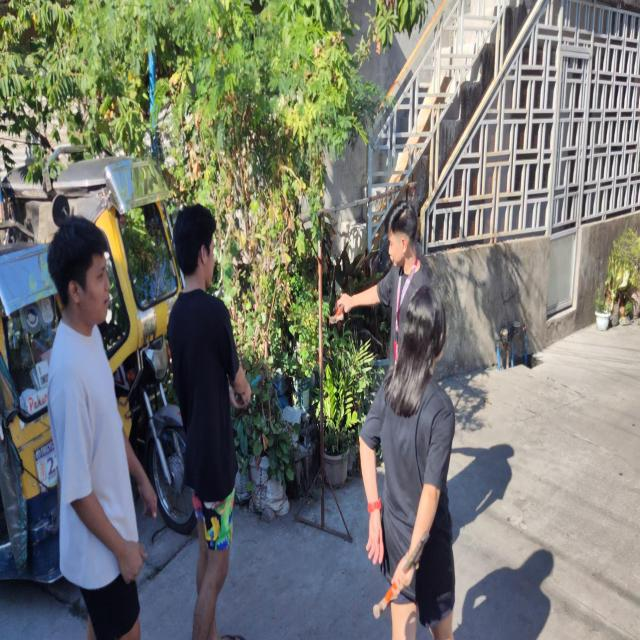hammer: (373, 532, 430, 619), (234, 365, 267, 403), (328, 303, 345, 324)
